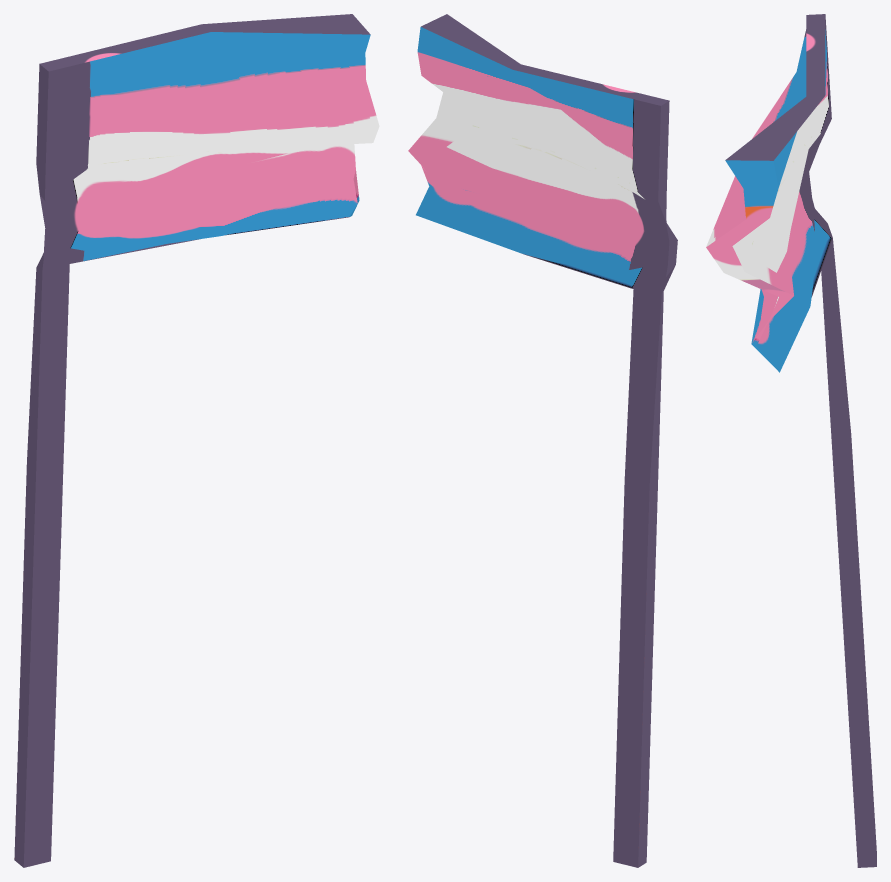
Rendered from transprideflag.glb.
3 views of the same model, side by side, from view 1: azimuth 30°, elevation 25°; view 2: azimuth 150°, elevation 25°; view 3: azimuth 270°, elevation 25° (orthographic). The views are drawn at different scales.
Visible parts, largest first — view 1: Cube; view 2: Cube; view 3: Cube.
Part boxes in pixels (x1,y1,x2,y2): Cube: [14, 14, 379, 867]; Cube: [408, 14, 677, 867]; Cube: [706, 14, 876, 867].
Bounding box in the file's own units: 5.95 × 15.54 × 2.86.
Materials: 1 (1 with a texture image).
